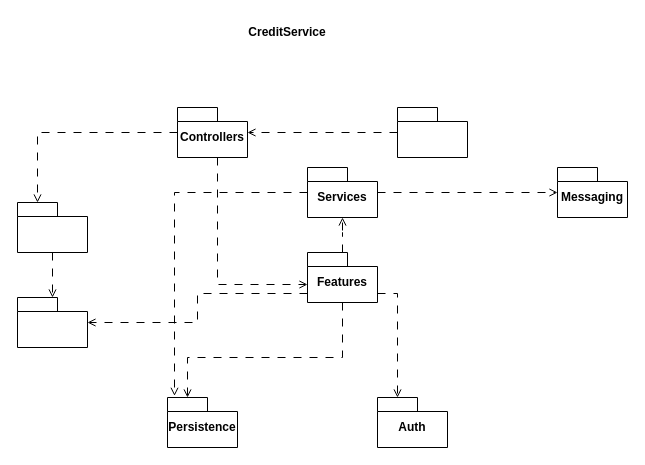
This 645x465 diagram has some shape labels left out. The centre of each missing label's shape, as x and y in pixels:
DTOs: the point at 52,227
Middleware: the point at 432,132
Models: the point at 52,322
